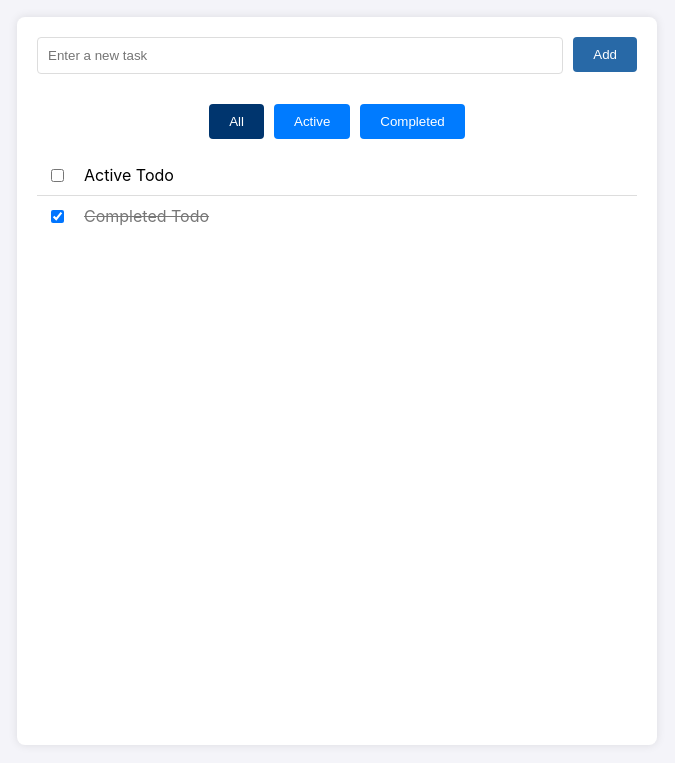
TodoApp › filters todos
The image size is (675, 763).
Step 1. Click the button with test id "filter-active" → (312, 122), box [274,104,350,139]
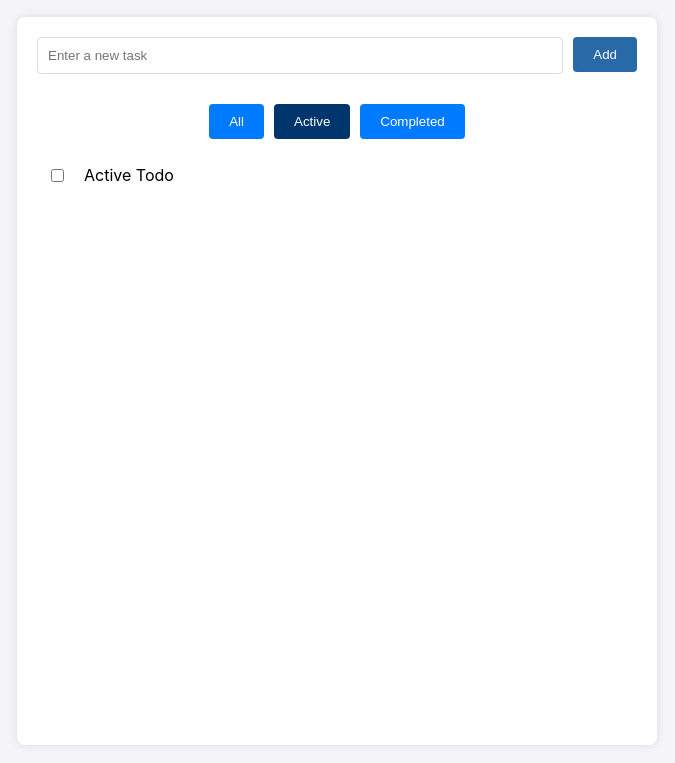
Expected: the text "Active Todo" is shown, [84,165,174,185]
Now the text "Completed Todo" is gone
Step 2. Click the button with test id "filter-completed" → (413, 122), box [360,104,465,139]
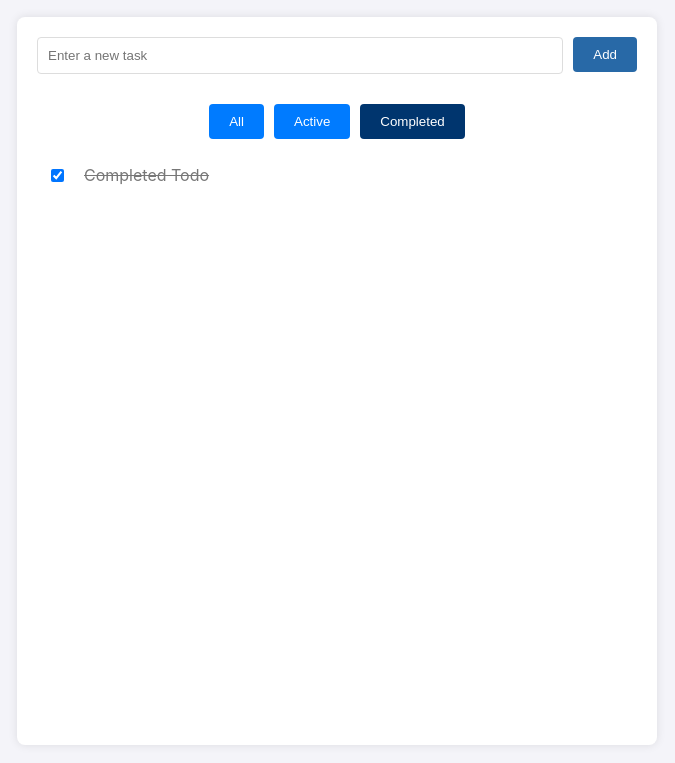
Now the text "Active Todo" is gone
Now the text "Completed Todo" is shown, box [84,165,209,185]
Step 3. Click the button with test id "filter-all" → (237, 122), box [209,104,264,139]
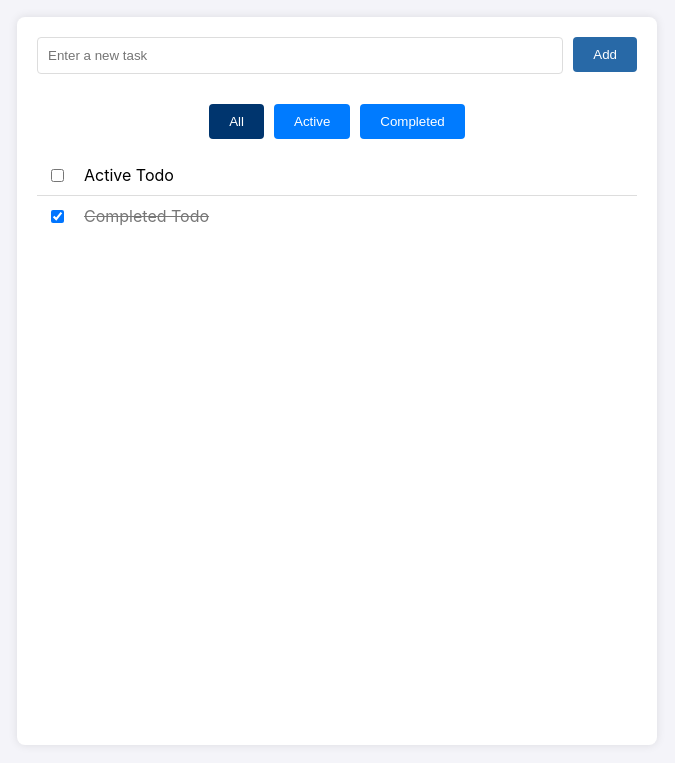
Now the text "Completed Todo" is shown, box [84,206,209,226]
Now the text "Active Todo" is shown, box [84,165,174,185]
